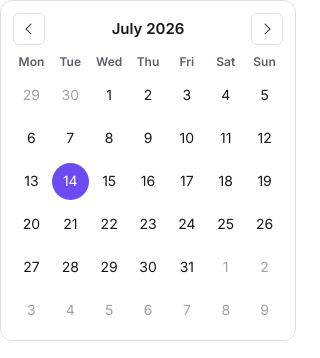
Test case: CalendarGrid drill-up subviews › restores focus to the 1st of the newly navigated month, not a selected date living in a different month
The width and height of the screenshot is (320, 358).
Click the button "July 2026".
click(148, 29)  # box [112, 18, 184, 40]
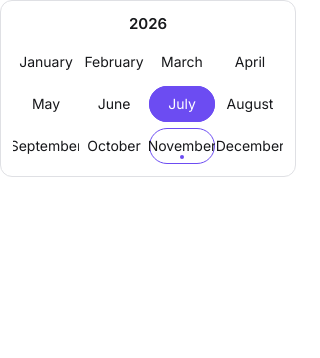
Click the button "March".
click(182, 62)  # box [149, 44, 215, 80]
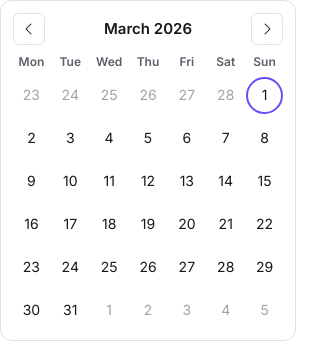
Now the heading "March 2026" is shown, box [104, 18, 192, 40]
